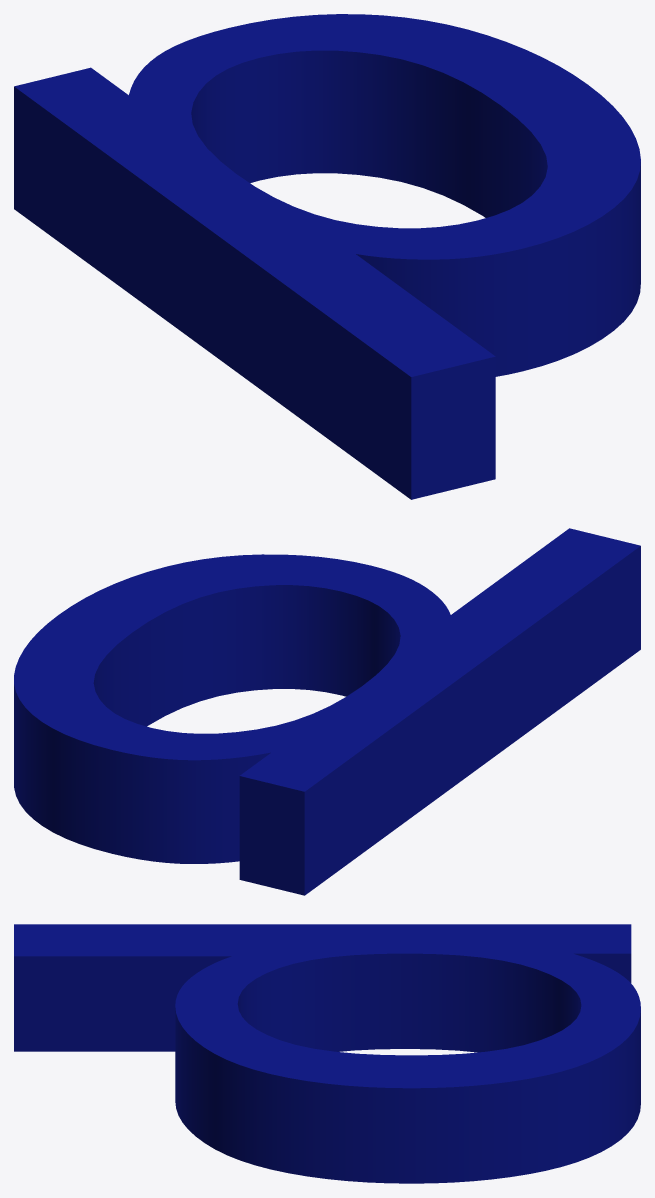
3 views of the same model, one above another, from view 1: azimuth 30°, elevation 25°; view 2: azimuth 150°, elevation 25°; view 3: azimuth 270°, elevation 25° (orthographic). The views are drawn at different scales.
Visible parts, largest first — view 1: TextPlus042; view 2: TextPlus042; view 3: TextPlus042.
Part boxes in pixels (x1,y1,x2,y2): TextPlus042: (14, 14, 640, 499); TextPlus042: (14, 528, 640, 895); TextPlus042: (14, 924, 640, 1183).
Size of the model in its own units: 16.16 by 4.38 by 26.12.
